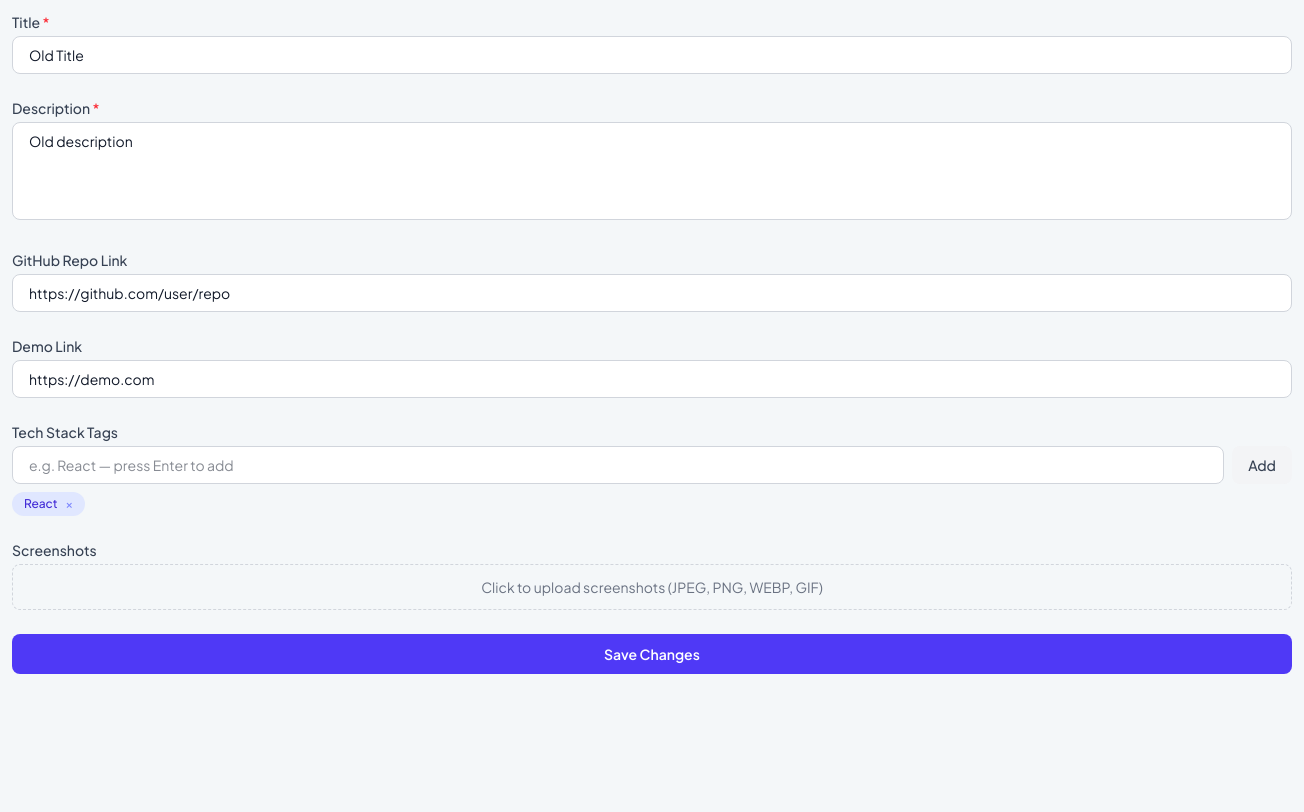
Test: EditPostForm › shows an error message when the API returns an error
Click the button "Save Changes": (652, 654) x1=12 y1=634 x2=1292 y2=674
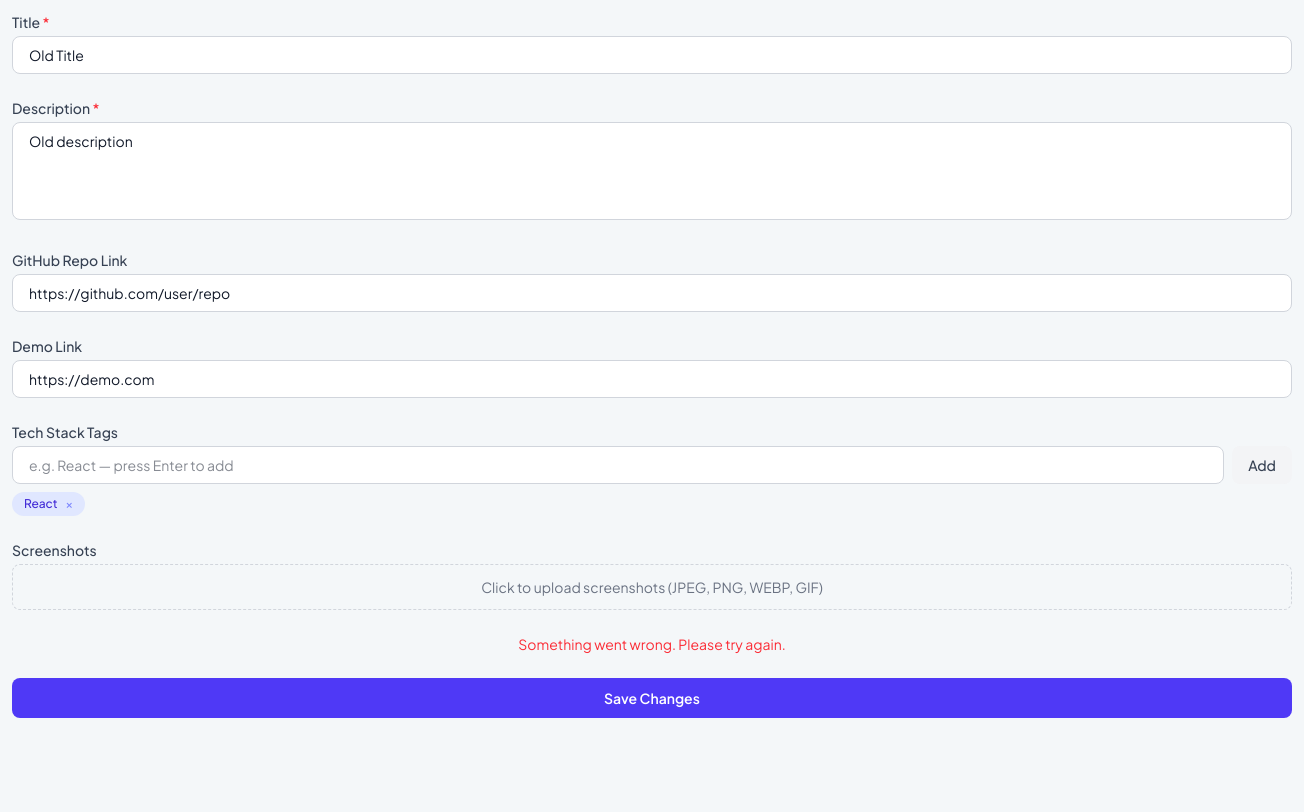
Result: the text "Something went wrong. Please try again." is shown at x1=518 y1=635 x2=786 y2=653
